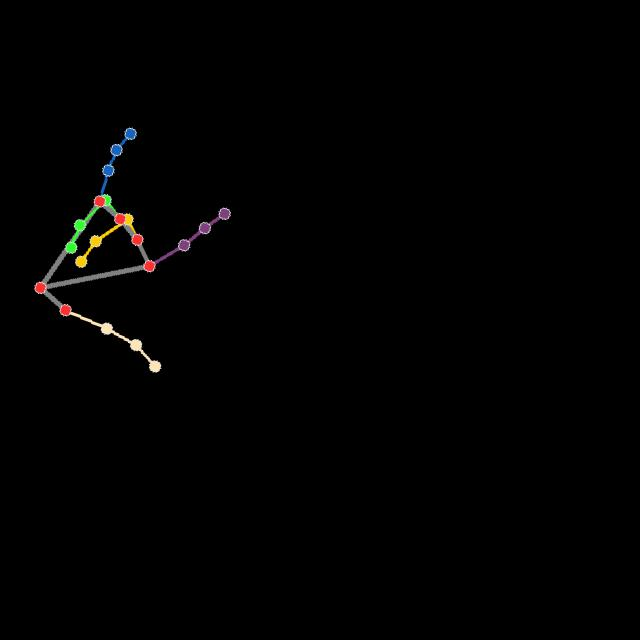spiderman: (32, 126, 234, 378)
